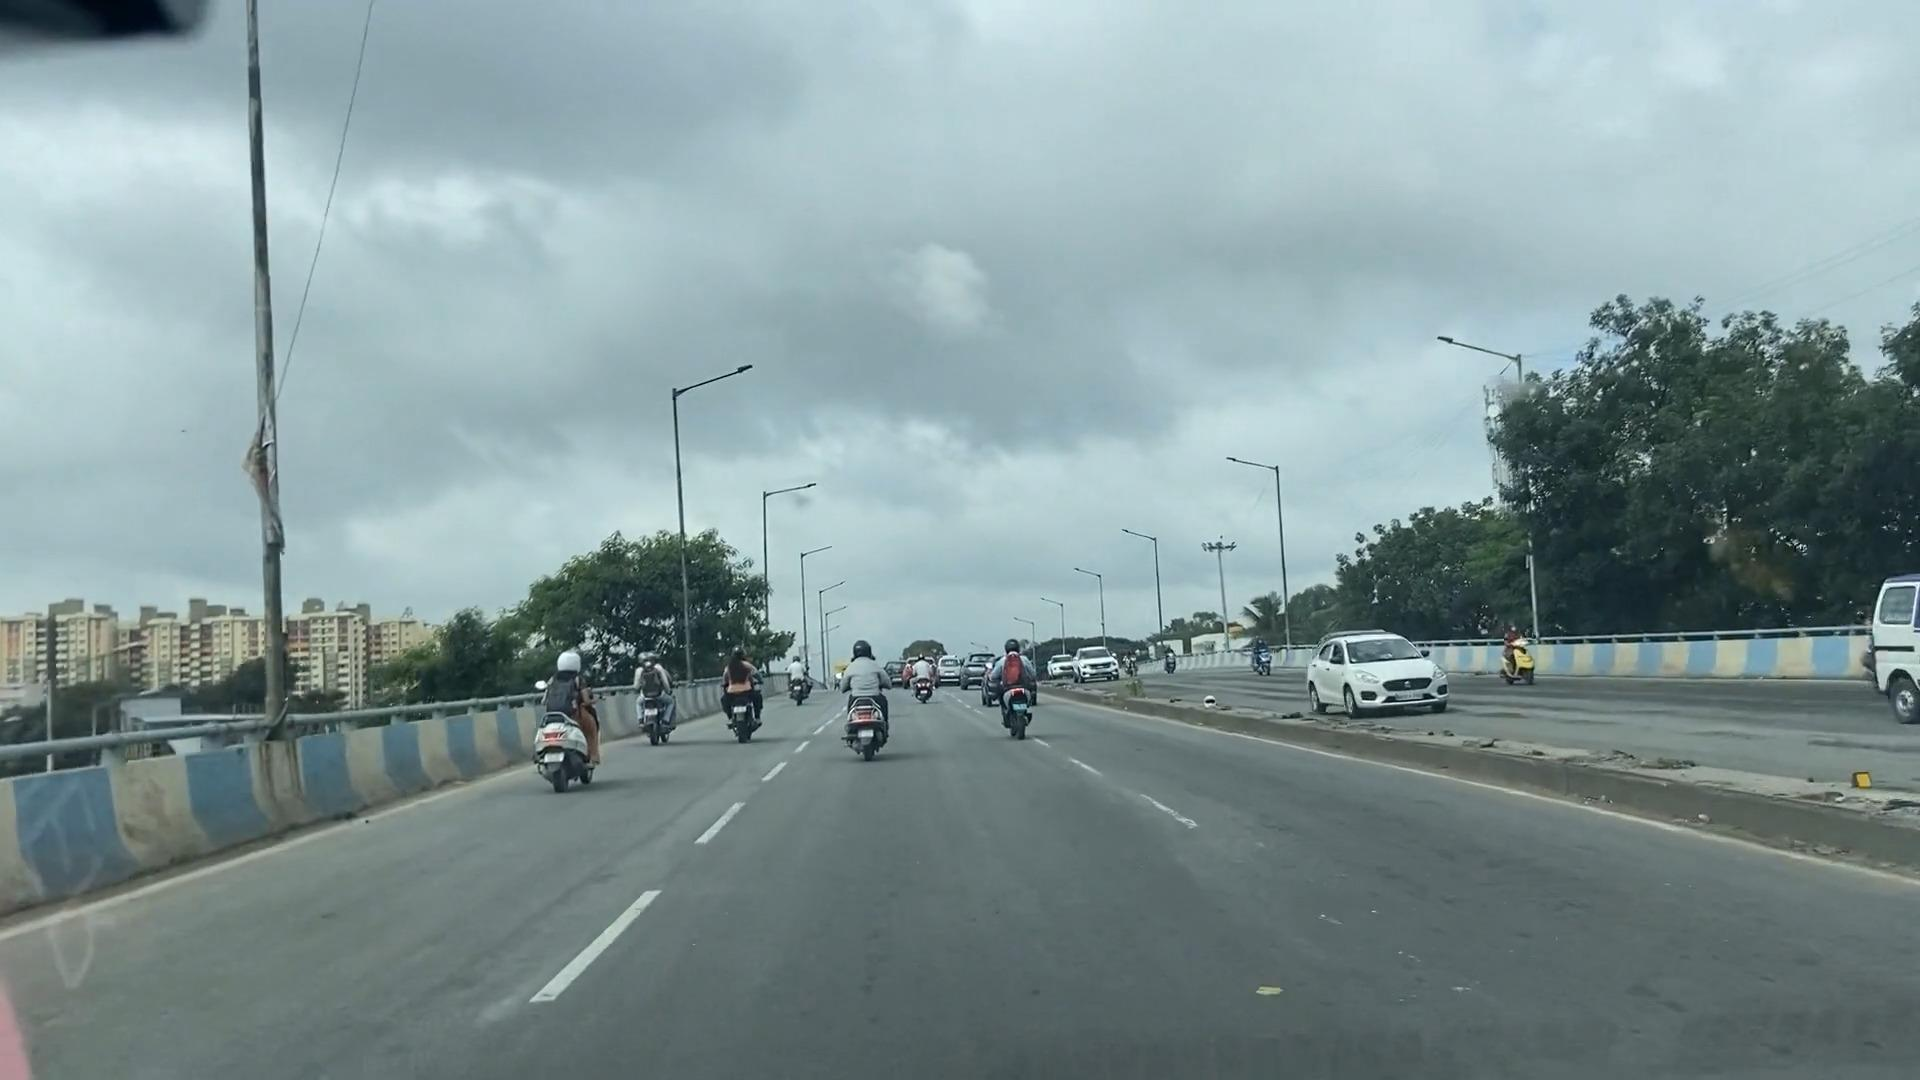LMV: (538, 651, 597, 791), (832, 642, 884, 758), (636, 644, 675, 752), (723, 646, 762, 746), (998, 642, 1033, 738), (787, 651, 810, 708), (913, 654, 935, 707)
